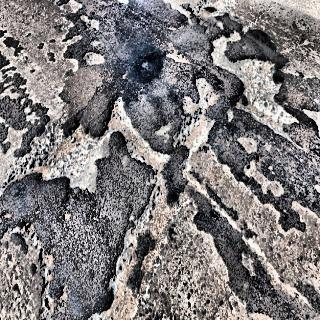pothole: (0, 0, 320, 320), (10, 40, 95, 206), (122, 87, 210, 224), (230, 55, 301, 154), (228, 246, 278, 313), (275, 201, 320, 269)
